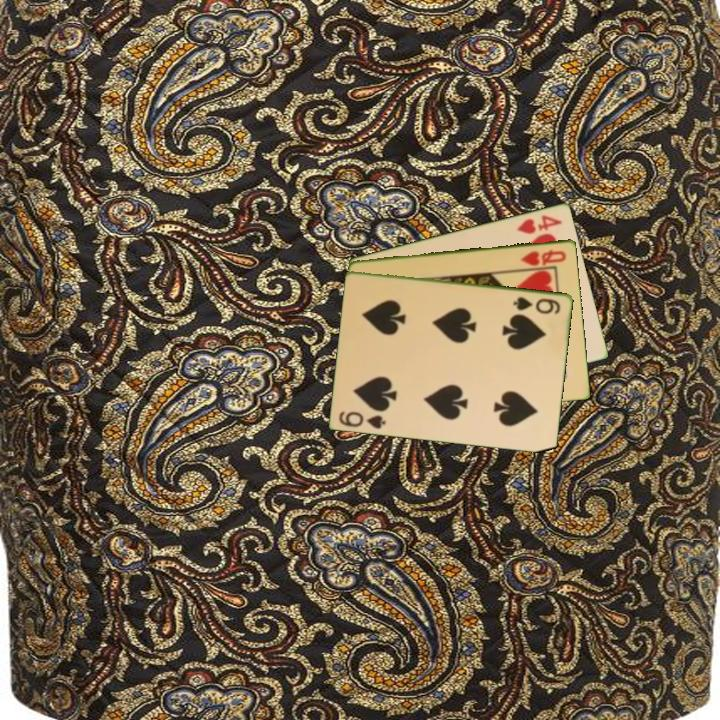4h: (514, 211, 565, 236)
6s: (336, 407, 389, 432), (510, 293, 563, 317)
Qh: (517, 246, 569, 268)
